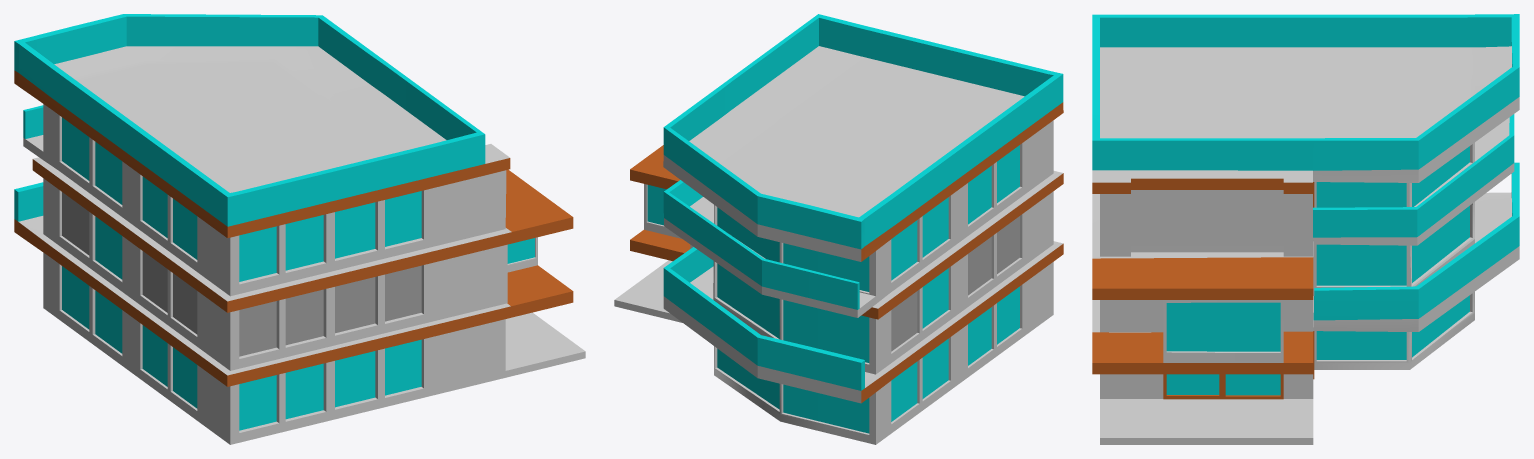
Rendered from Building_Apartment_Mod.fbx.
The picture shows the model from 3 angles, left to right: view 1: azimuth 30°, elevation 25°; view 2: azimuth 150°, elevation 25°; view 3: azimuth 270°, elevation 25°; orthographic projection. The views are drawn at different scales.
Parts seen in each view (by area): view 1: pCube19; view 2: pCube19; view 3: pCube19.
Boxes of the visible parts, x1=… form: pCube19: x1=14, y1=14, x2=585, y2=444; pCube19: x1=614, y1=14, x2=1063, y2=444; pCube19: x1=1092, y1=14, x2=1519, y2=444.
Size of the model in its own units: 9.1 by 6.07 by 9.26.
